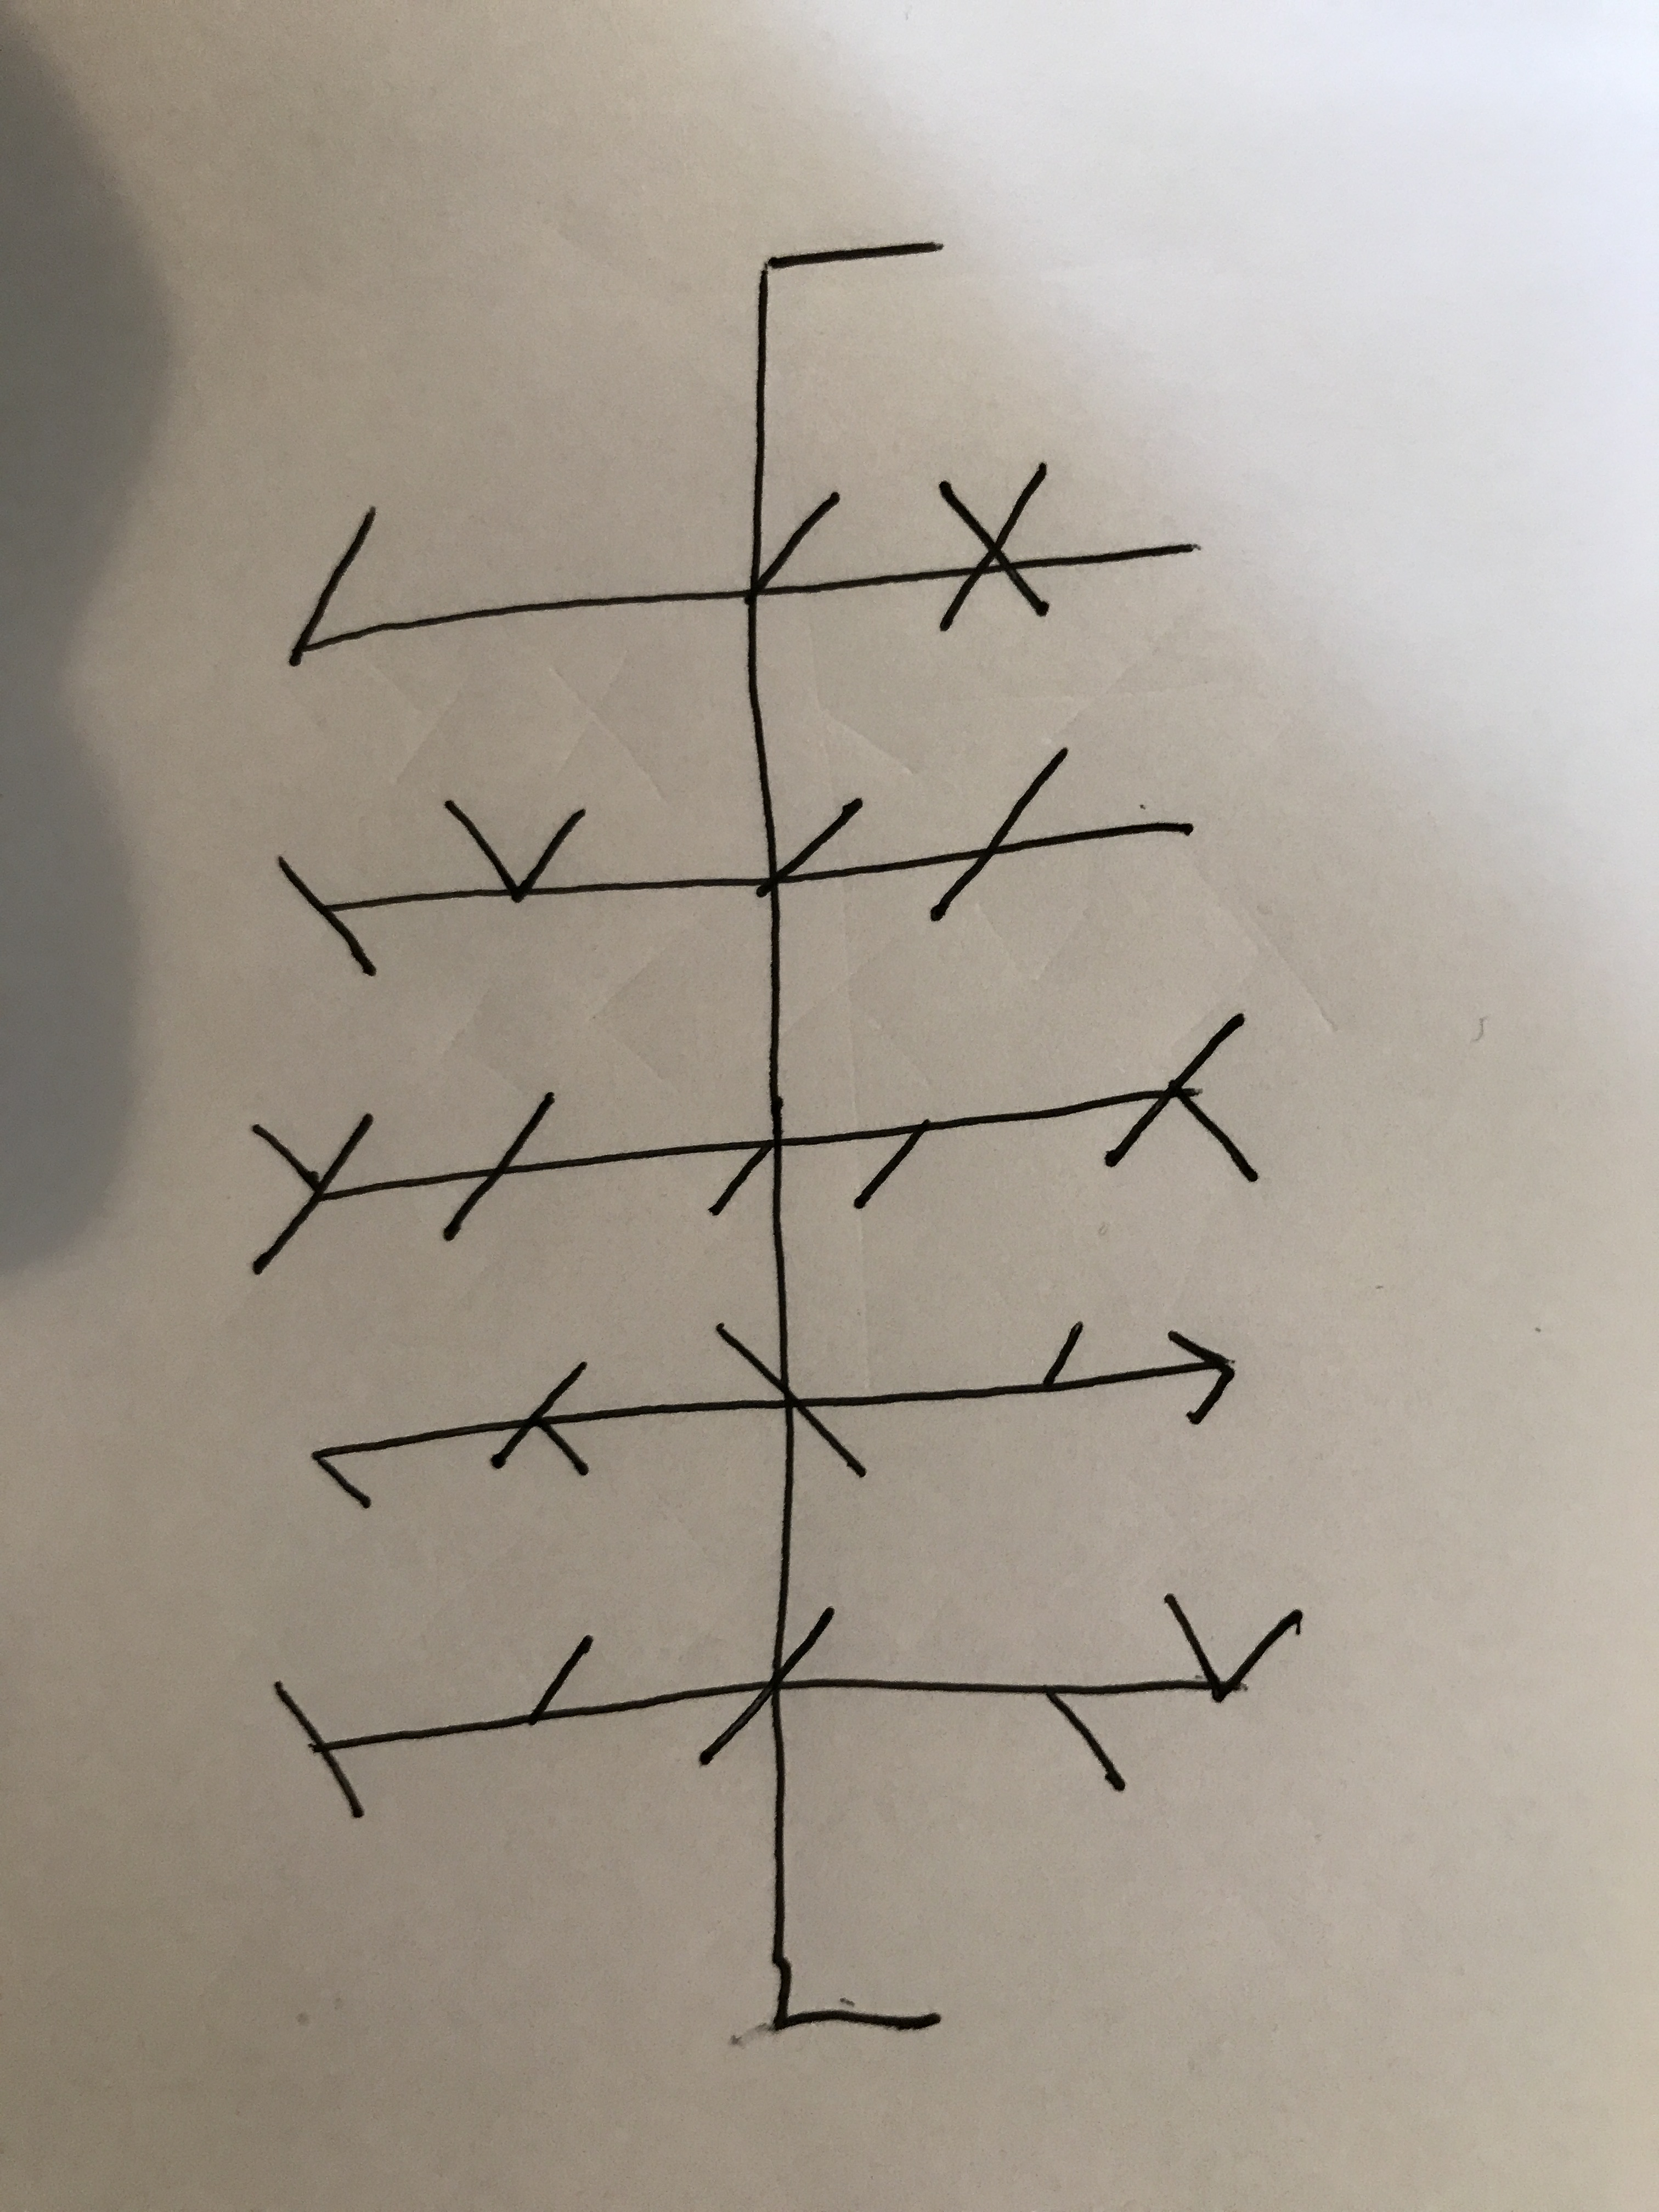Bar: (249, 1014, 1262, 1273), (272, 1592, 1305, 1818), (279, 742, 1190, 977), (289, 460, 1201, 665), (310, 1318, 1234, 1507)
Barcode: (247, 239, 1305, 2031)
End: (772, 1696, 941, 2031)
Start: (753, 240, 945, 482)
